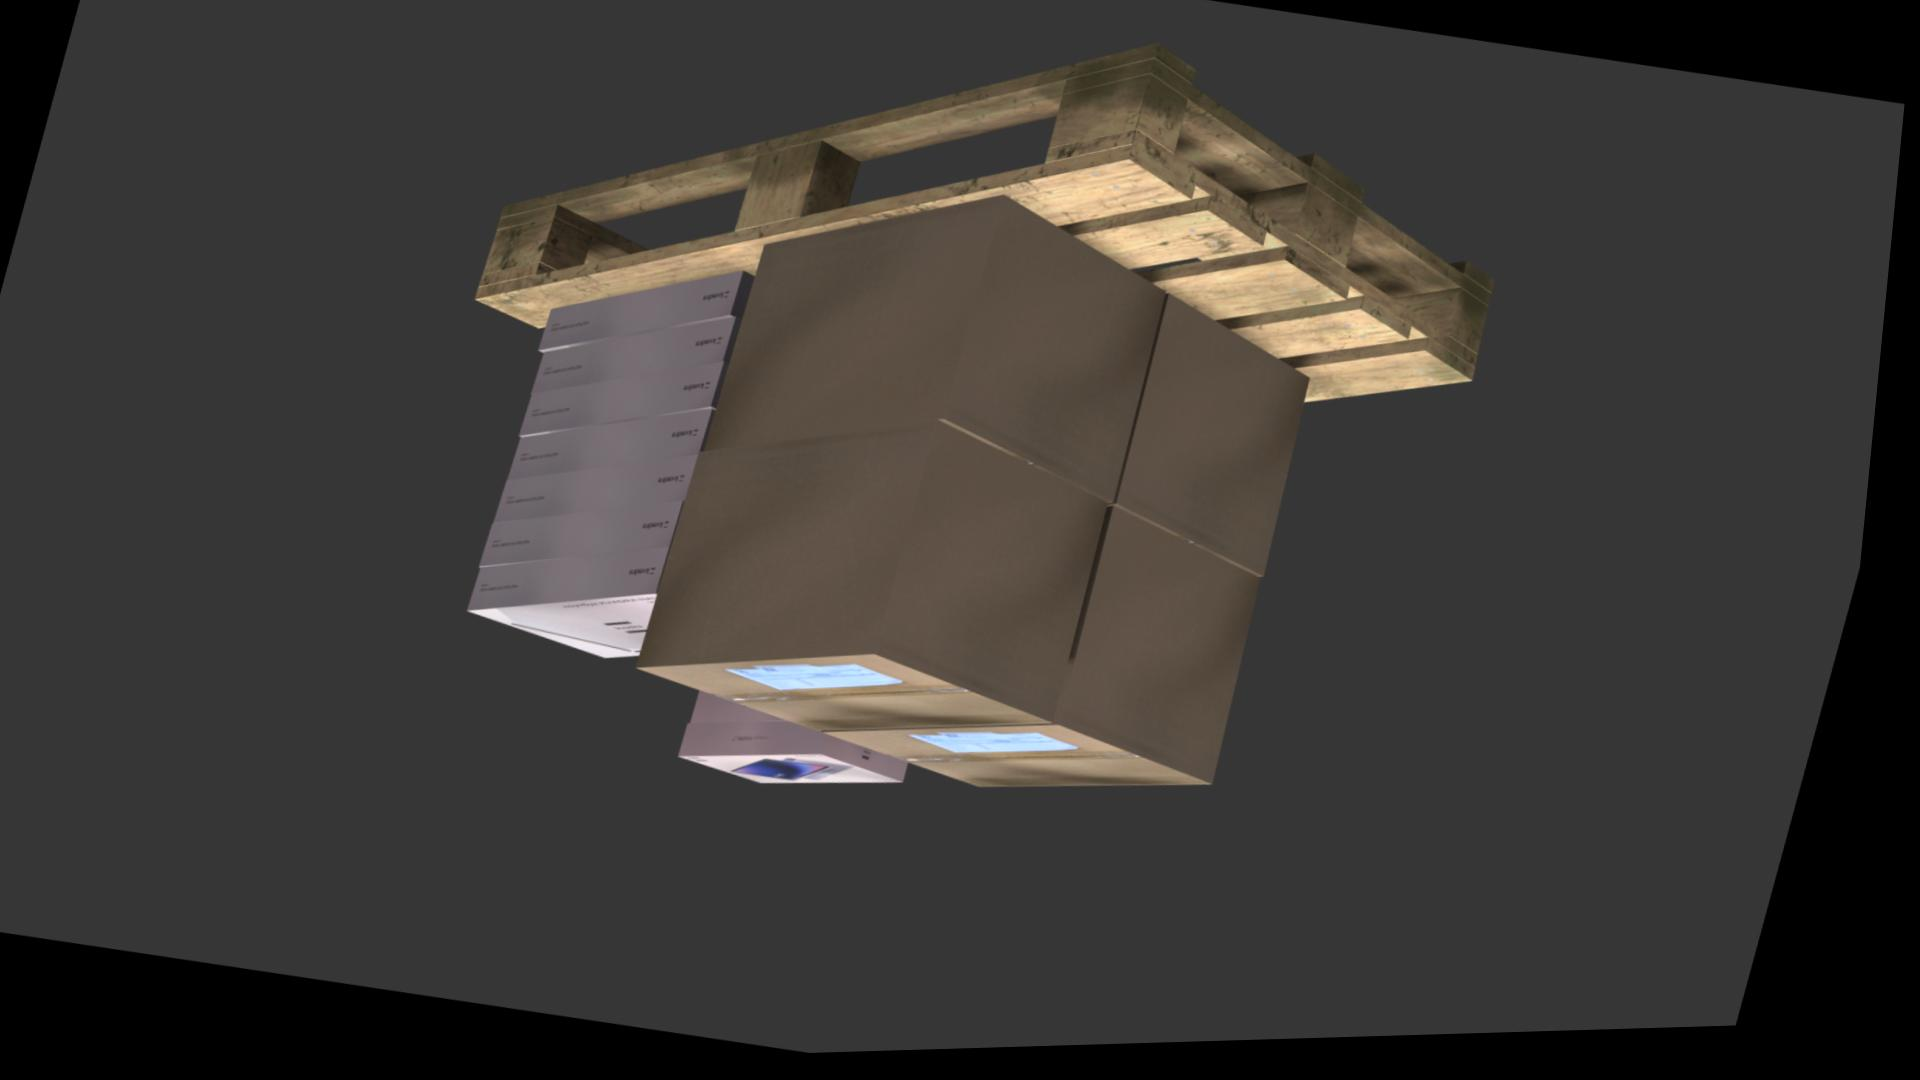group_box_left: (713, 200, 1174, 510), (651, 426, 1119, 727), (1069, 513, 1271, 789), (1125, 301, 1319, 585)
group_box_top: (652, 661, 1067, 737), (842, 731, 1230, 794)
laptop_left: (546, 276, 751, 354), (529, 366, 735, 441), (540, 322, 745, 397), (518, 414, 722, 482), (505, 459, 708, 526), (491, 506, 694, 570), (480, 551, 680, 614)
laptop_top: (481, 597, 669, 663)
palet: (480, 50, 1503, 411)
tablet_left: (694, 727, 924, 787)
tablet_top: (694, 759, 918, 791)
